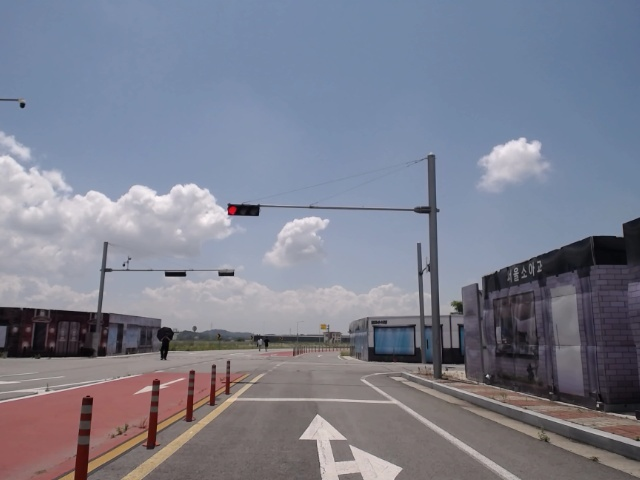red_3: (225, 202, 262, 218)
